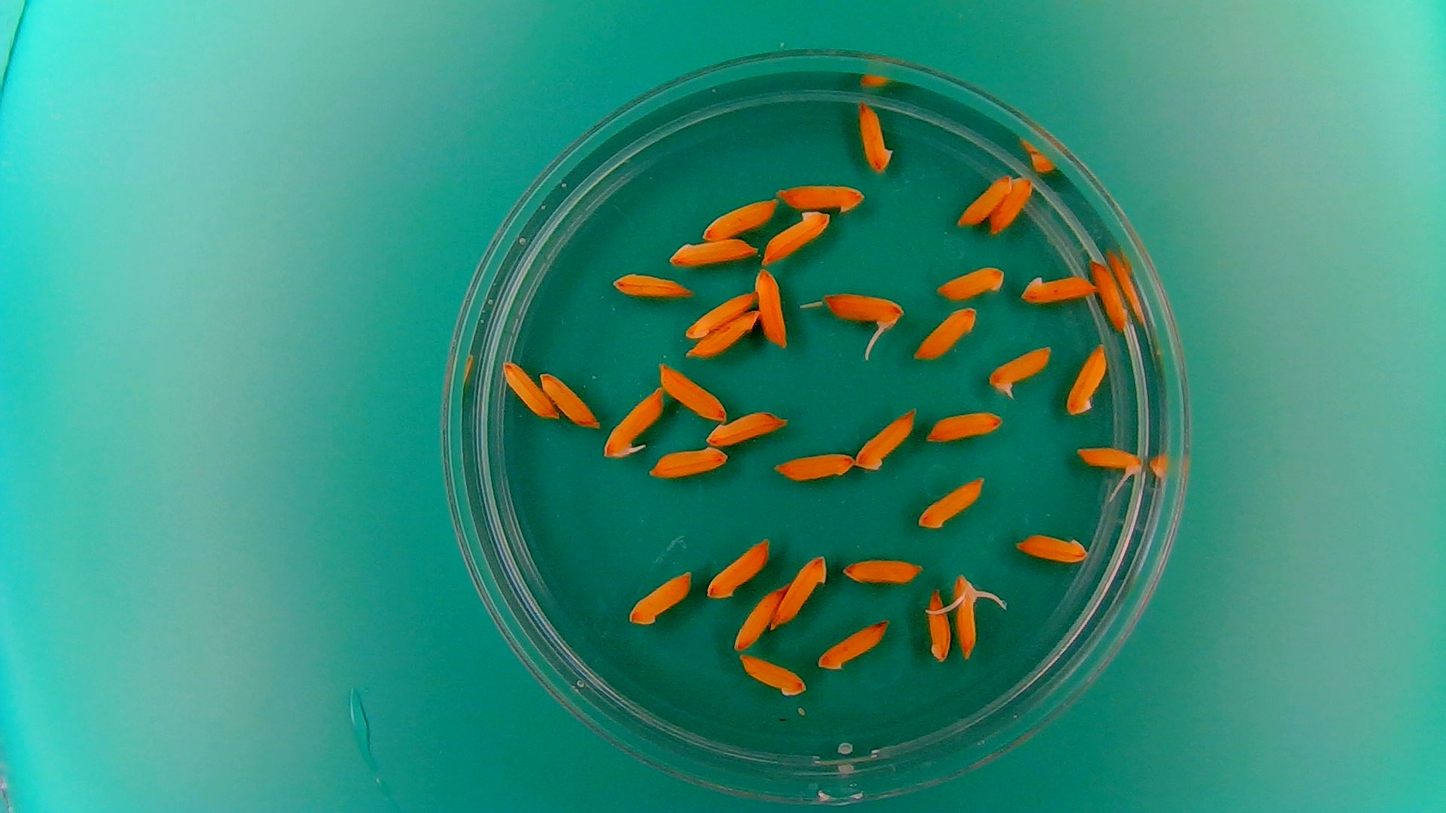no: (853, 403, 918, 473), (703, 534, 770, 599), (760, 208, 834, 266), (657, 361, 728, 421), (734, 648, 811, 703), (813, 618, 891, 672), (625, 567, 694, 628), (916, 473, 987, 531), (775, 552, 828, 628), (537, 370, 601, 431), (911, 303, 978, 361), (699, 194, 779, 242), (682, 288, 758, 338), (685, 308, 761, 358), (774, 178, 868, 216), (1064, 341, 1110, 418), (499, 360, 556, 421), (703, 407, 789, 447), (731, 584, 781, 650), (956, 171, 1014, 227), (1088, 257, 1130, 333), (666, 235, 758, 269), (771, 447, 855, 483), (856, 98, 895, 175), (754, 266, 789, 351), (925, 406, 1005, 443), (648, 444, 729, 480), (990, 173, 1036, 236), (935, 262, 1007, 301), (840, 553, 925, 586), (1014, 529, 1091, 565), (1019, 271, 1098, 306), (607, 269, 695, 300), (923, 587, 952, 662)
yes: (602, 384, 666, 459), (986, 342, 1054, 399), (818, 292, 910, 332), (1073, 441, 1144, 486), (953, 570, 985, 660)
